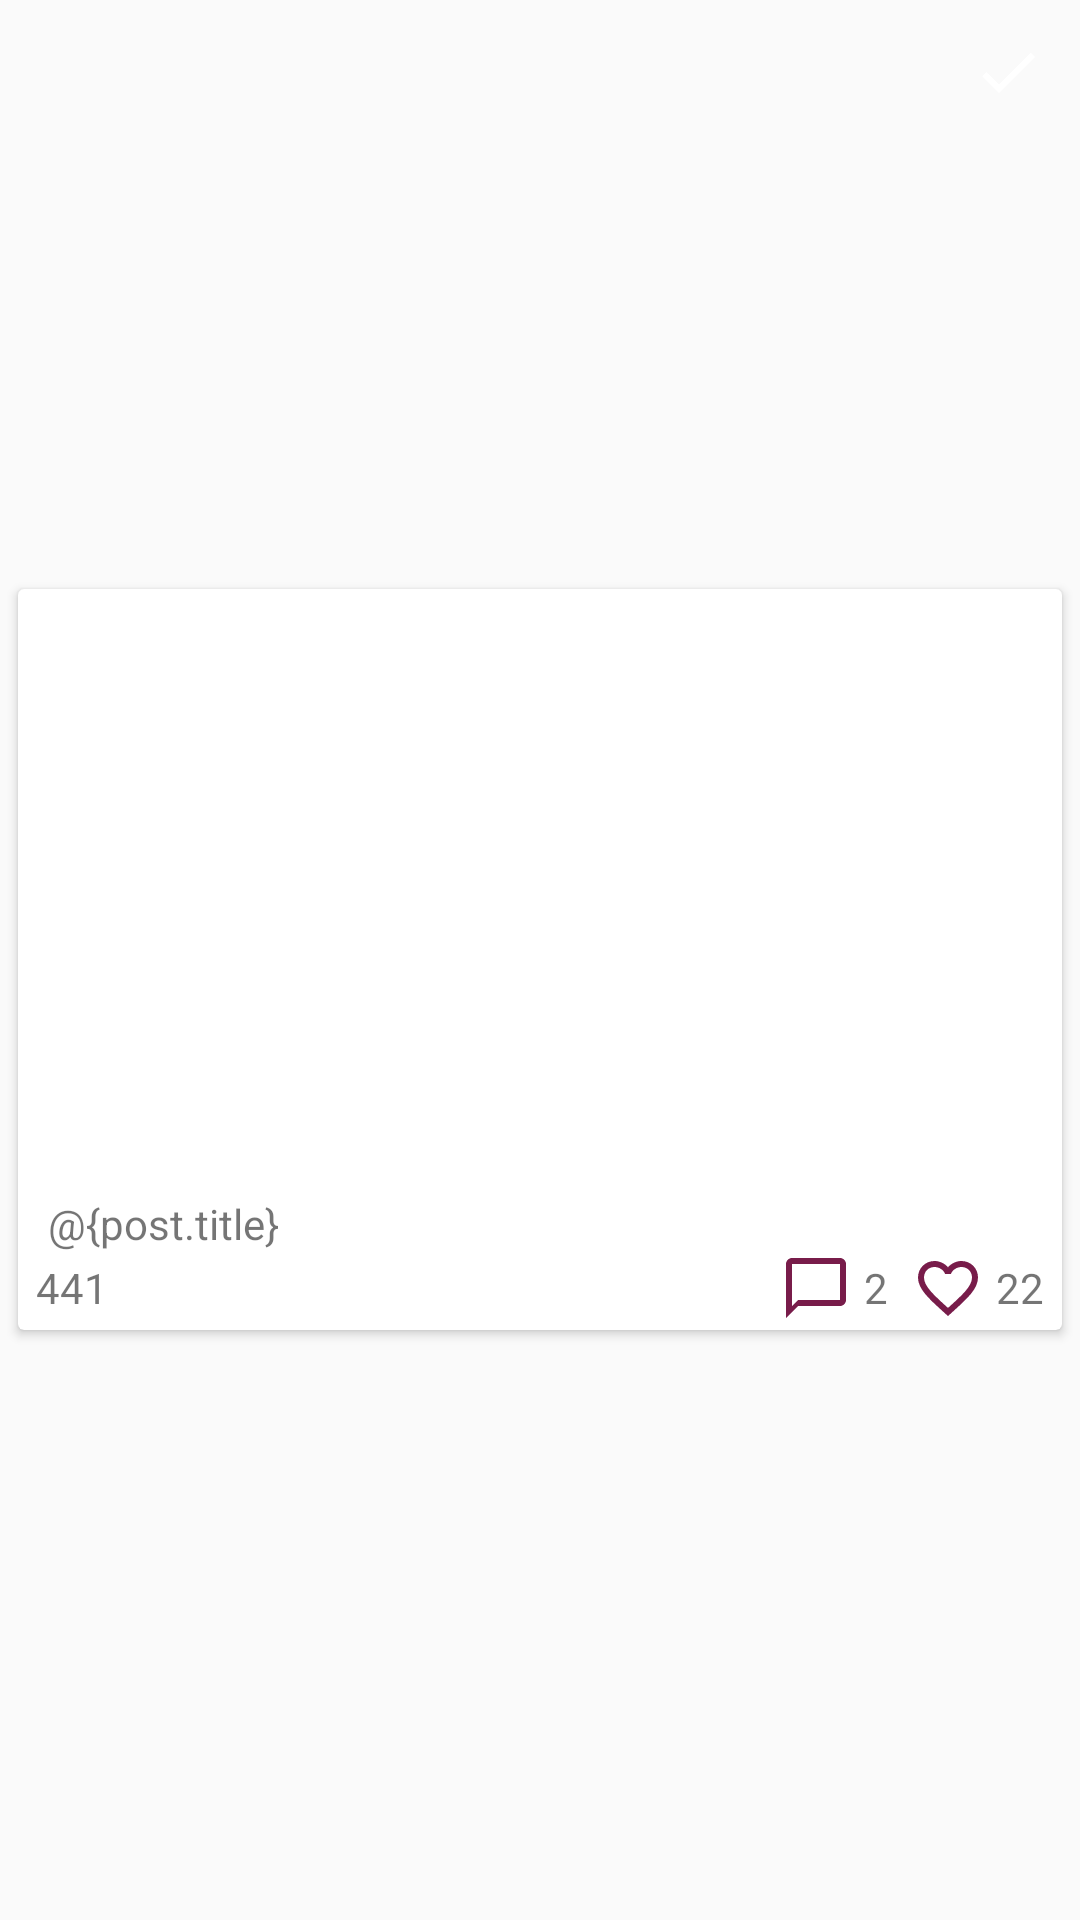

Screen size 1080 × 1920. Icon name, then its box in pixels as (x1, y1, x2, y2):
comment: (786, 1258, 846, 1318)
like: (918, 1261, 978, 1316)
